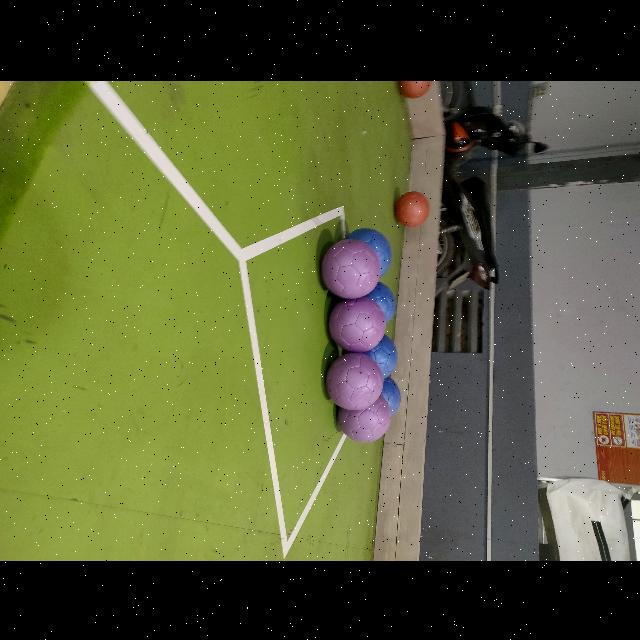B: (345, 228, 391, 276), (367, 334, 398, 378), (366, 282, 396, 322), (382, 376, 401, 414)
P: (322, 238, 380, 298), (328, 296, 386, 352), (327, 352, 383, 408), (337, 391, 391, 444)
R: (396, 190, 430, 226), (392, 80, 440, 100)
